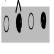correct: (40, 10, 47, 31)
not correct: (15, 0, 22, 34)
